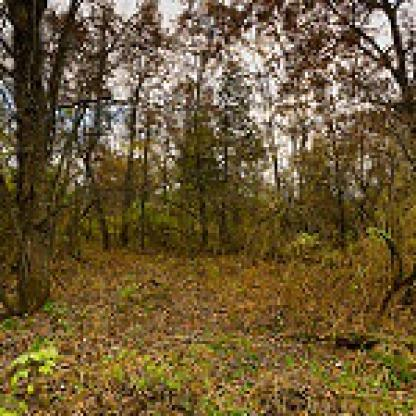tree: (172, 6, 247, 241), (55, 3, 116, 255), (291, 31, 358, 250), (114, 5, 169, 247), (180, 108, 233, 244), (130, 106, 164, 250)
trunk: (2, 0, 56, 289)
